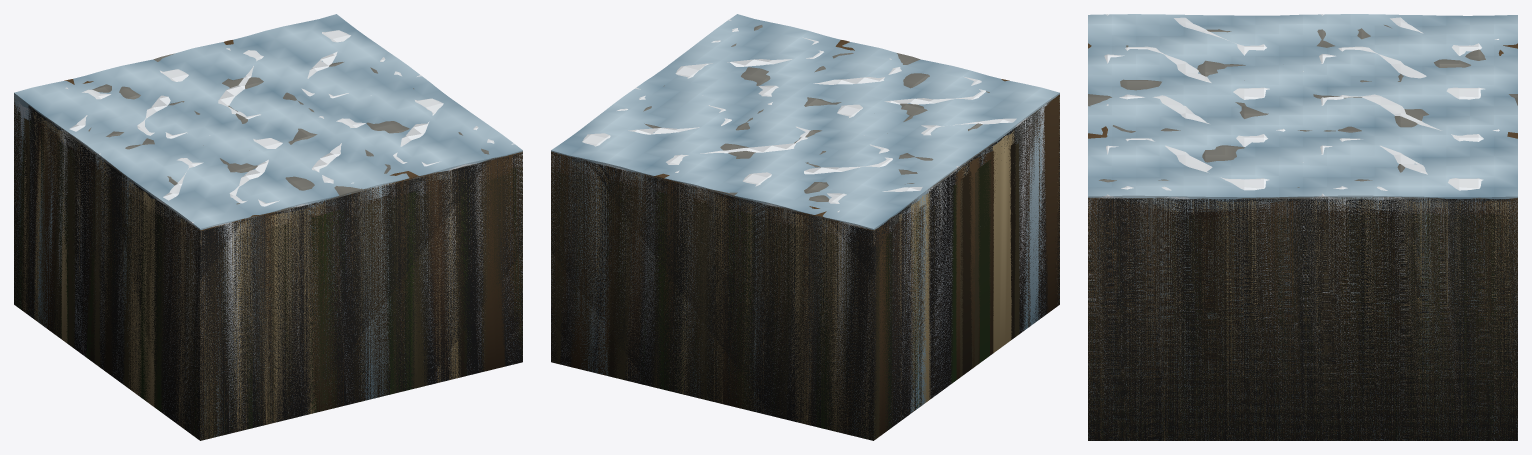
File: stage_blocks.glb
3 renders of one model, left to right at view 1: azimuth 30°, elevation 25°; view 2: azimuth 150°, elevation 25°; view 3: azimuth 270°, elevation 25°, orthographic. The views are drawn at different scales.
Parts seen in each view (by area): view 1: block_asphalt, block_ice, block_gravel, block_dirt, block_sand, block_grass, block_mud, block_stone, block_snow, block_peat; view 2: block_asphalt, block_ice, block_gravel, block_dirt, block_sand, block_grass, block_stone, block_mud, block_snow, block_peat; view 3: block_asphalt, block_ice, block_gravel, block_dirt, block_mud, block_stone, block_grass, block_snow, block_sand, block_peat.
Boxes of the visible parts, box(x1,y1,x2,y2) form: block_asphalt: box(14, 105, 522, 440); block_ice: box(14, 14, 522, 436); block_gravel: box(14, 113, 522, 440); block_dirt: box(14, 40, 522, 439); block_sand: box(14, 99, 522, 438); block_grass: box(14, 112, 522, 437); block_mud: box(14, 103, 522, 436); block_stone: box(14, 53, 522, 435); block_snow: box(14, 30, 522, 426); block_peat: box(14, 110, 503, 438); block_asphalt: box(551, 111, 1059, 440); block_ice: box(551, 14, 1059, 437); block_gravel: box(551, 143, 1059, 440); block_dirt: box(551, 40, 1059, 439); block_sand: box(551, 98, 1059, 439); block_grass: box(551, 140, 1059, 438); block_stone: box(551, 25, 1059, 437); block_mud: box(552, 103, 1059, 438); block_snow: box(551, 19, 1051, 430); block_peat: box(552, 118, 1040, 438); block_asphalt: box(1088, 198, 1517, 440); block_ice: box(1088, 14, 1517, 440); block_gravel: box(1088, 214, 1517, 440); block_dirt: box(1088, 43, 1517, 440); block_mud: box(1088, 205, 1517, 440); block_stone: box(1088, 25, 1517, 440); block_grass: box(1088, 213, 1517, 440); block_snow: box(1088, 14, 1517, 440); block_sand: box(1088, 200, 1517, 440); block_peat: box(1088, 205, 1517, 440).
Bounding box in the file's own units: 1 × 0.63 × 1.
